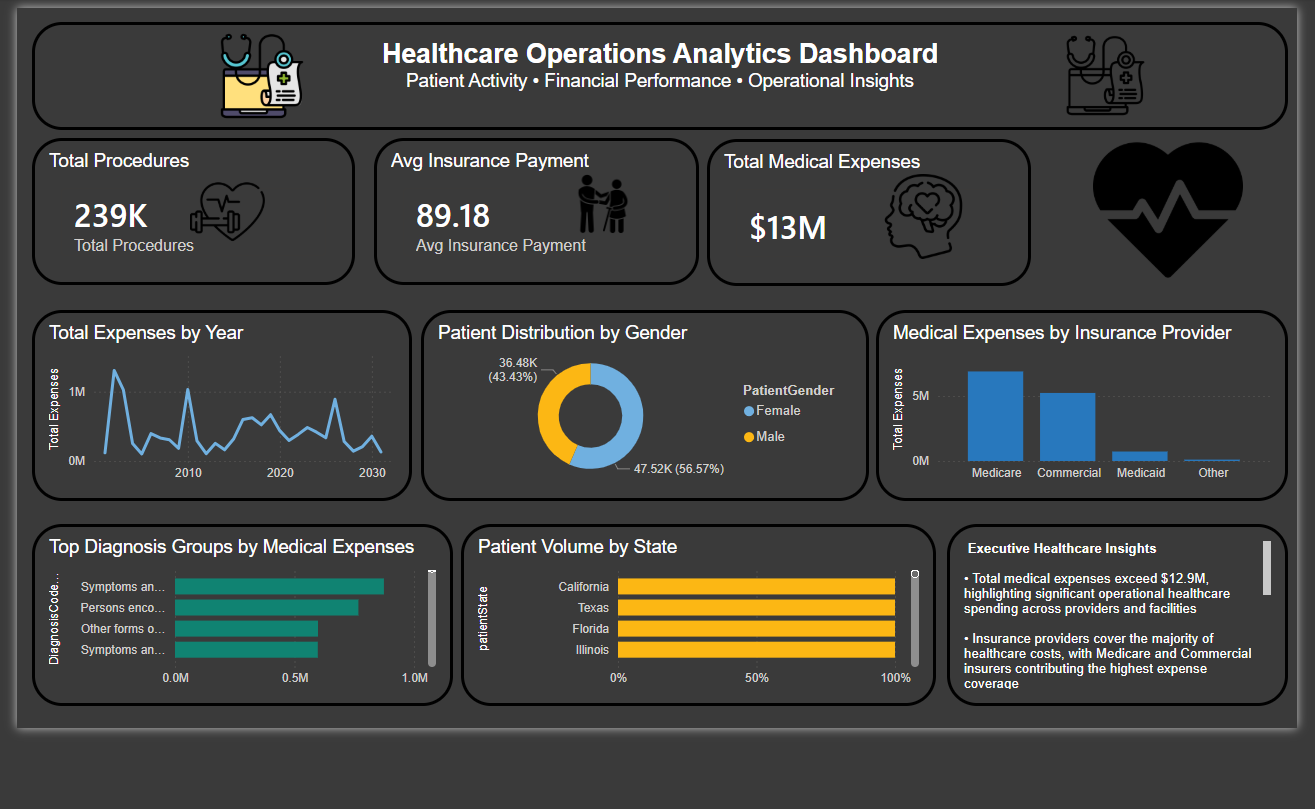

Layout of this report page (visuals, bound fields, positions):
{"tool":"powerbi","page":{"name":"Page 1","canvas":[1280,720],"ordinal":0},"visuals":[{"type":"cardVisual","title":"Total Medical Expenses","fields":{"Data":["Healthcare_Dataset.Total Expenses"]},"box":[690,131,324,147],"z":0},{"type":"cardVisual","title":"Total Procedures","fields":{"Data":["Healthcare_Dataset.Total Procedures"]},"box":[15,130,323,147],"z":1000},{"type":"cardVisual","title":"Avg Insurance Payment","fields":{"Data":["Healthcare_Dataset.Avg Insurance Payment"]},"box":[357,130,325,147],"z":2000},{"type":"textbox","box":[15,14,1256,108],"z":3000},{"type":"lineChart","fields":{"Category":["Healthcare_Dataset.Date of posting.Variation.Date Hierarchy.Year","Healthcare_Dataset.Date of posting.Variation.Date Hierarchy.Quarter","Healthcare_Dataset.Date of posting.Variation.Date Hierarchy.Month","Healthcare_Dataset.Date of posting.Variation.Date Hierarchy.Day"],"Y":["Healthcare_Dataset.Total Expenses"]},"box":[15,302,380,191],"z":4000},{"type":"donutChart","title":"Patient Distribution by Gender","fields":{"Category":["Healthcare_Dataset.PatientGender"],"Y":["CountNonNull(Healthcare_Dataset.PatientID)"]},"box":[403.6,302.5,448.4,190.6],"z":5000},{"type":"clusteredBarChart","title":"Top Diagnosis Groups by Medical Expenses","fields":{"Category":["Healthcare_Dataset.DiagnosisCodeGroup"],"Y":["Healthcare_Dataset.Total Expenses"]},"box":[15,516,421,182],"z":6000},{"type":"columnChart","title":"Medical Expenses by Insurance Provider","fields":{"Category":["Healthcare_Dataset.PayerName"],"Y":["Healthcare_Dataset.Total Expenses"]},"box":[859,302,412,191],"z":7000},{"type":"hundredPercentStackedBarChart","title":"Patient Volume by State","fields":{"Category":["Healthcare_Dataset.patientState"],"Y":["CountNonNull(Healthcare_Dataset.PatientID)"]},"box":[444,516,475,182],"z":8000},{"type":"textbox","box":[930,516,341,182],"z":9000},{"type":"image","box":[1022,127,258,150],"z":10000},{"type":"image","box":[938,26,300,83],"z":11000},{"type":"image","box":[132,24,225,88],"z":12000},{"type":"image","box":[500,166,172,60],"z":13000},{"type":"image","box":[102,166,217,75],"z":14000},{"type":"image","box":[809,166,195,85],"z":15000}]}

Visuals, with their boxes on the page's 1280x720 design canvas (x1, y1, x2, y2). These are canvas units, not pixel positions in the 1315x809 screenshot, which may show the page scaled, cropped or inside an application window:
"Total Medical Expenses" cardVisual: locate(690, 131, 1014, 278)
"Total Procedures" cardVisual: locate(15, 130, 338, 277)
"Avg Insurance Payment" cardVisual: locate(357, 130, 682, 277)
textbox: locate(15, 14, 1271, 122)
lineChart - Healthcare_Dataset.Date of posting.Variation.Date Hierarchy.Year x Healthcare_Dataset.Date of posting.Variation.Date Hierarchy.Quarter: locate(15, 302, 395, 493)
"Patient Distribution by Gender" donutChart: locate(404, 302, 852, 493)
"Top Diagnosis Groups by Medical Expenses" clusteredBarChart: locate(15, 516, 436, 698)
"Medical Expenses by Insurance Provider" columnChart: locate(859, 302, 1271, 493)
"Patient Volume by State" hundredPercentStackedBarChart: locate(444, 516, 919, 698)
textbox: locate(930, 516, 1271, 698)
image: locate(1022, 127, 1280, 277)
image: locate(938, 26, 1238, 109)
image: locate(132, 24, 357, 112)
image: locate(500, 166, 672, 226)
image: locate(102, 166, 319, 241)
image: locate(809, 166, 1004, 251)
